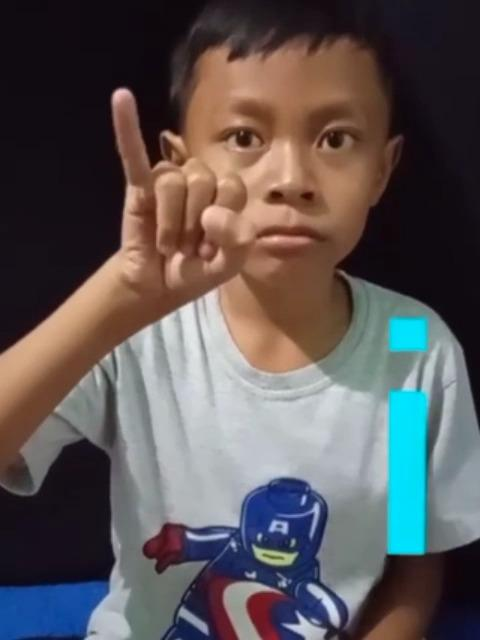I: (107, 87, 257, 303)
